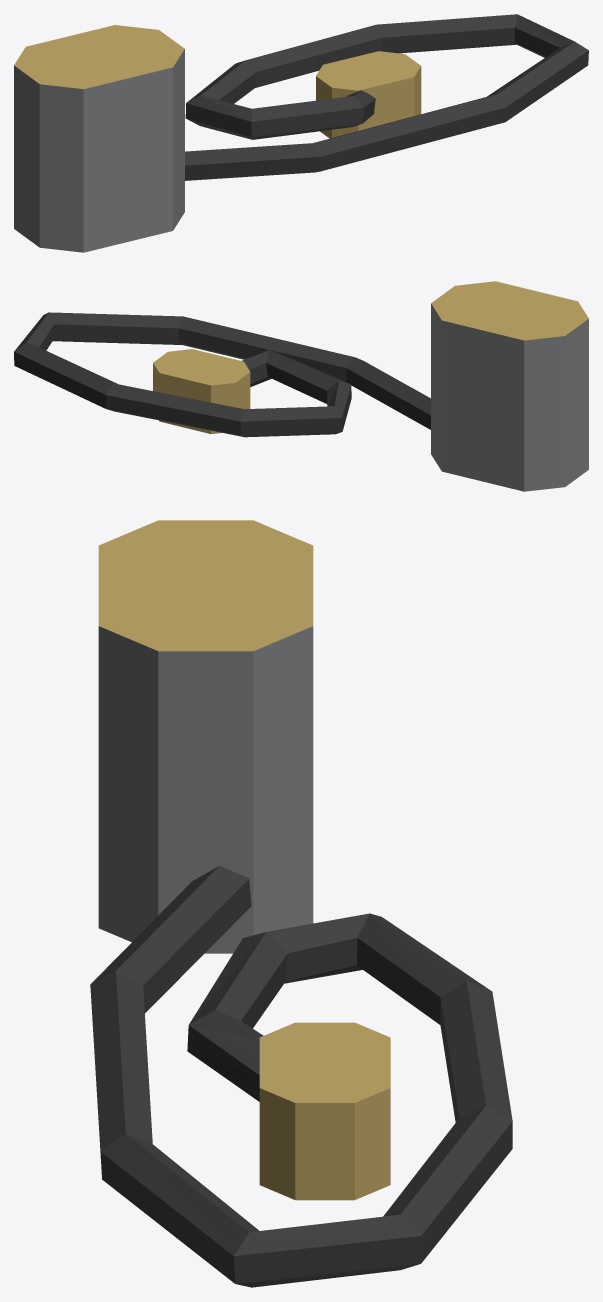
File: phone_charger.glb
3 views of the same model, one above another, from view 1: azimuth 30°, elevation 25°; view 2: azimuth 150°, elevation 25°; view 3: azimuth 270°, elevation 25° (orthographic). The views are drawn at different scales.
Visible parts, largest first — view 1: phone_charger; view 2: phone_charger; view 3: phone_charger.
Boxes of the visible parts, x1,y1,x2,y2 form: phone_charger: (14, 14, 588, 252); phone_charger: (14, 281, 588, 491); phone_charger: (90, 520, 512, 1287).
Bounding box in the file's own units: 0.12 × 0.0329 × 0.0417.
